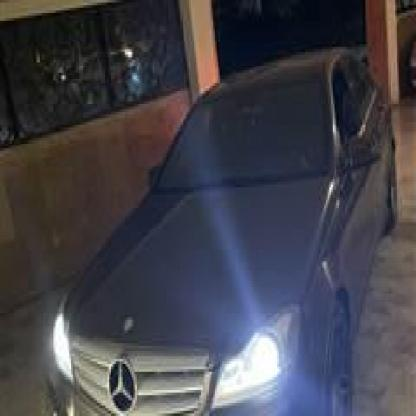Car: (35, 34, 400, 416)
